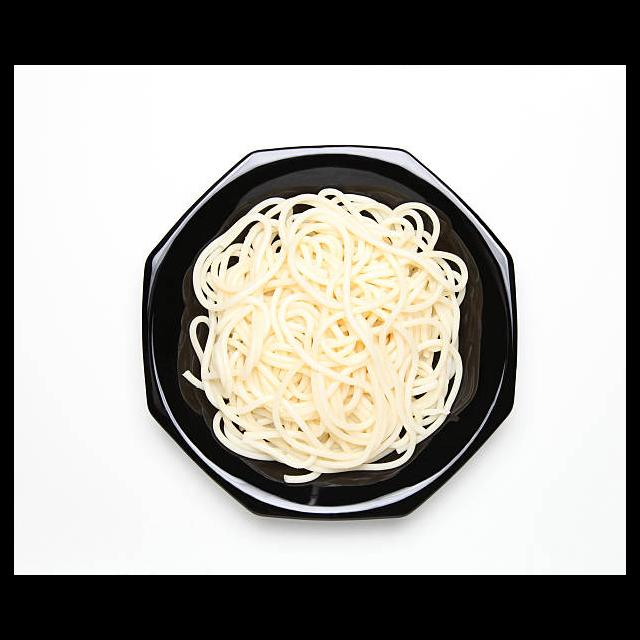noodles: (183, 189, 470, 483)
